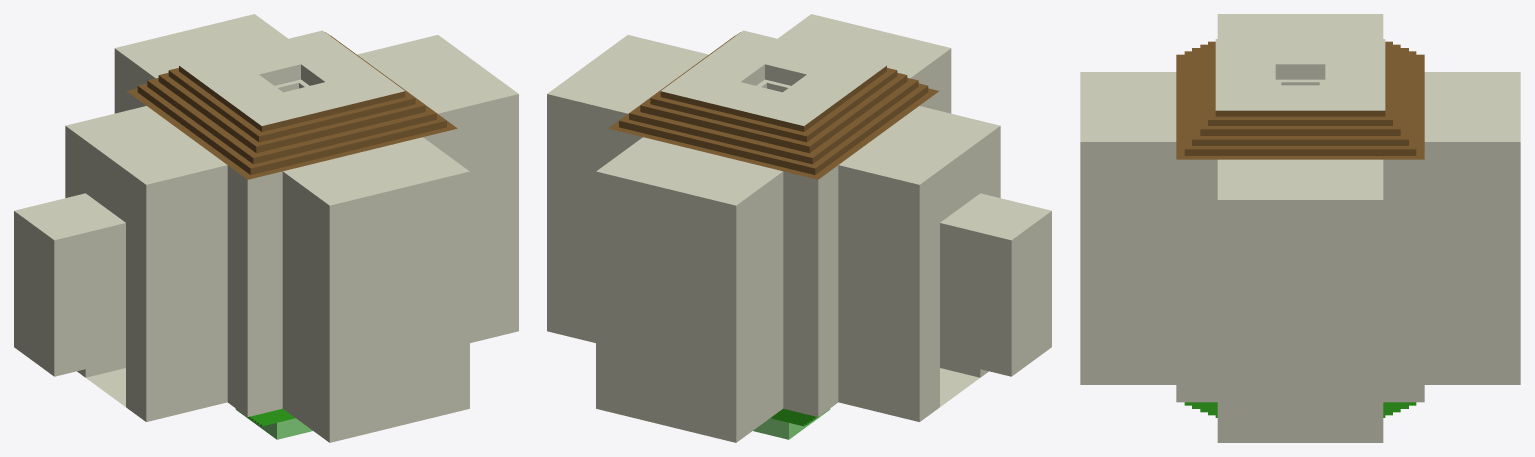
File: Nvidia_Scene.fbx
3 views of the same model, side by side, from view 1: azimuth 30°, elevation 25°; view 2: azimuth 150°, elevation 25°; view 3: azimuth 270°, elevation 25° (orthographic). The views are drawn at different scales.
Parts seen in each view (by area): view 1: Cube.001; view 2: Cube.001; view 3: Cube.001.
Part boxes in pixels (left/top/right/bottom): Cube.001: left=14, top=14, right=518, bottom=442; Cube.001: left=547, top=14, right=1051, bottom=442; Cube.001: left=1080, top=14, right=1520, bottom=442.
Bounding box in the file's own units: 83.9 × 60.92 × 70.38.
